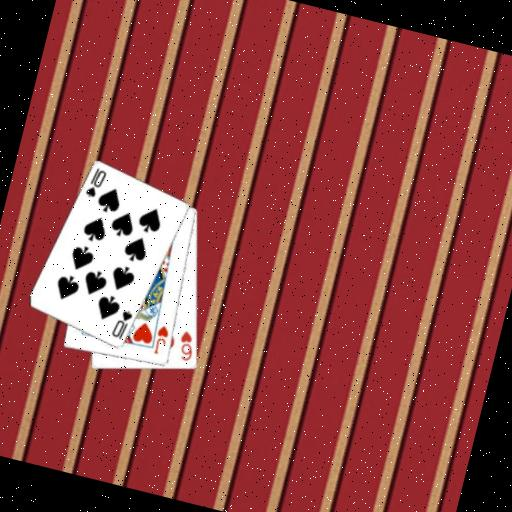10S: (82, 163, 110, 202), (108, 305, 136, 343)
6H: (173, 327, 200, 364)
JH: (150, 322, 172, 357)
